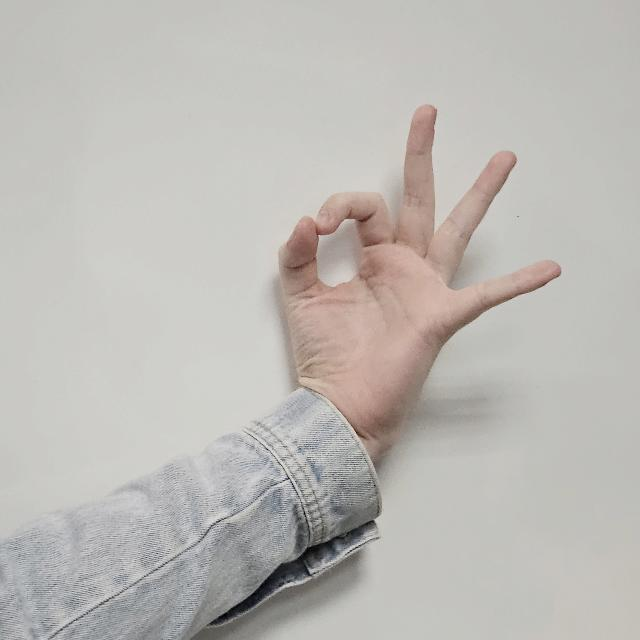Bolinha: (279, 97, 561, 451)
